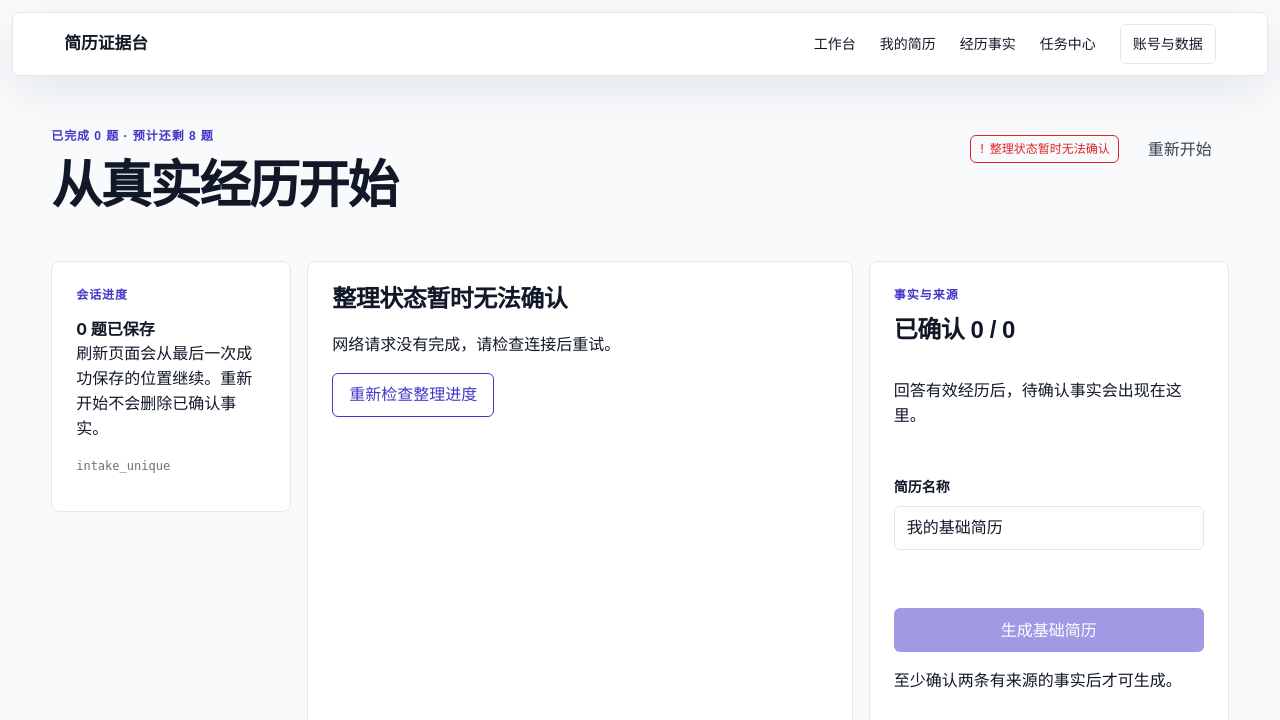
it: V2 persisted intake › shows a same-page recovery action after an uncertain answer-analysis poll
Click the button "重新检查整理进度".
click(413, 395)  # box [332,373,494,417]
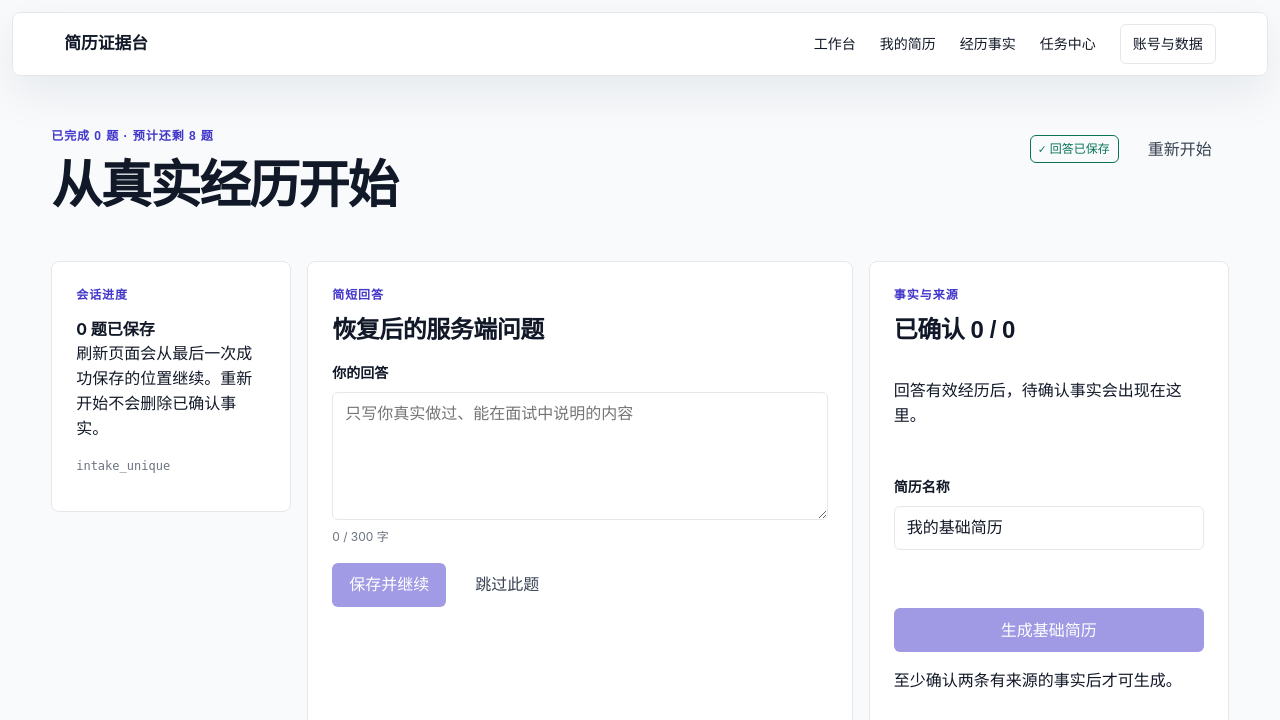
Now the heading "恢复后的服务端问题" is shown, box [332,316,544,343]
